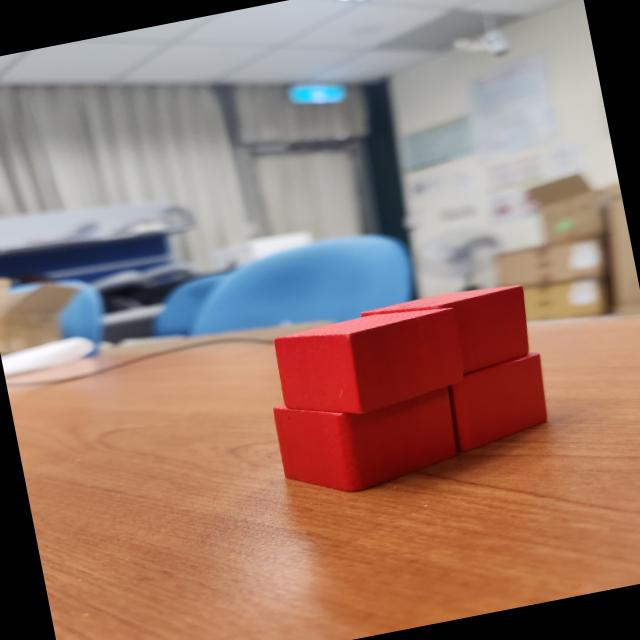red: (271, 371, 468, 507), (270, 298, 472, 429), (362, 278, 538, 392), (443, 349, 556, 454)
